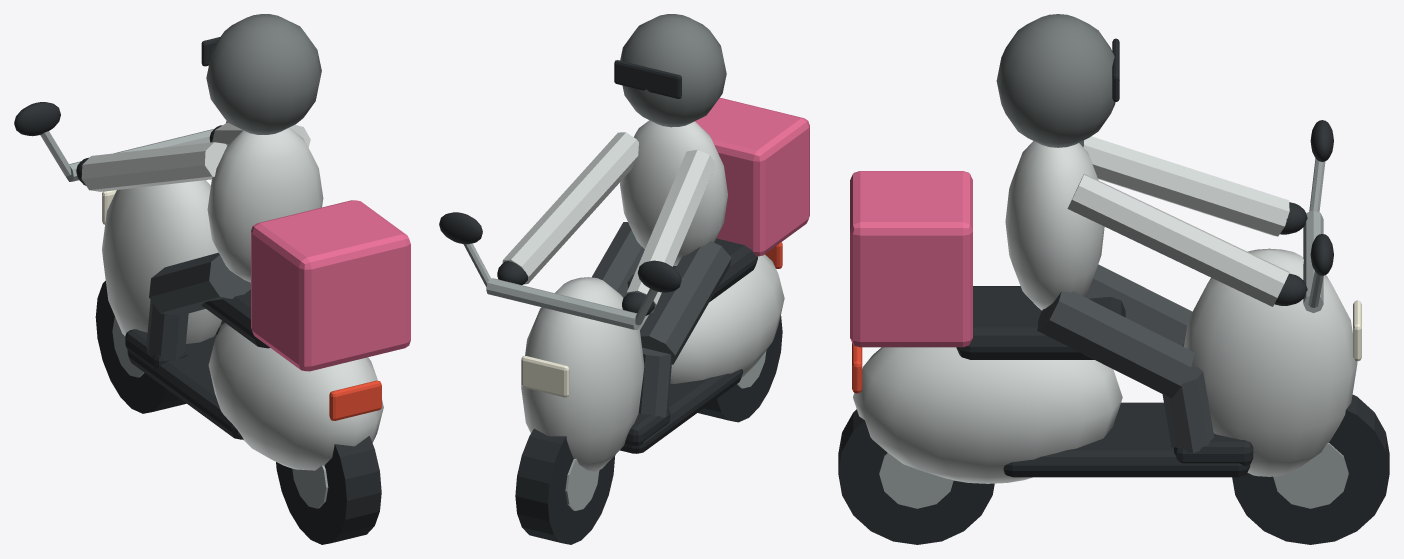
The model's file is bike.glb.
The picture shows the model from 3 angles, left to right: view 1: azimuth 30°, elevation 25°; view 2: azimuth 150°, elevation 25°; view 3: azimuth 270°, elevation 25°; orthographic projection. The views are drawn at different scales.
Parts seen in each view (by area): view 1: delivery_box, rear_fairing, front_fairing, helmet, rider_torso, wheel, arm, thigh, footboard, wheel.001, leg, taillight (+8 smaller); view 2: front_fairing, delivery_box, rear_fairing, helmet, rider_torso, wheel.001, arm.001, thigh, arm, handlebar, footboard, wheel (+10 smaller); view 3: rear_fairing, front_fairing, delivery_box, helmet, rider_torso, wheel.001, arm.001, wheel, footboard, arm, thigh.001, seat (+9 smaller).
Part boxes in pixels (box(x1,y1,x2,y2)): delivery_box: box(251, 200, 410, 371); rear_fairing: box(208, 323, 383, 470); front_fairing: box(102, 180, 221, 343); helmet: box(206, 14, 321, 134); rider_torso: box(207, 128, 323, 282); wheel: box(276, 436, 381, 544); arm: box(81, 142, 226, 191); thigh: box(149, 252, 250, 315); footboard: box(127, 334, 243, 439); wheel.001: box(95, 281, 186, 413); leg: box(146, 300, 188, 360); taillight: box(329, 380, 381, 420); front_fairing: box(521, 277, 644, 471); delivery_box: box(695, 97, 809, 256); rear_fairing: box(639, 254, 784, 383); helmet: box(620, 14, 726, 127); rider_torso: box(620, 120, 727, 265); wheel.001: box(515, 428, 615, 544); arm.001: box(502, 132, 638, 284); thigh: box(640, 241, 731, 364); arm: box(625, 149, 715, 312); handlebar: box(486, 278, 640, 329); footboard: box(620, 369, 742, 453); wheel: box(698, 315, 782, 422); rear_fairing: box(853, 347, 1122, 483); front_fairing: box(1184, 248, 1357, 476); delivery_box: box(850, 171, 972, 347); helmet: box(996, 14, 1115, 147); rider_torso: box(1005, 141, 1104, 310); wheel.001: box(1232, 394, 1389, 544); arm.001: box(1067, 173, 1289, 306); wheel: box(838, 409, 994, 544); footboard: box(1003, 402, 1250, 477); arm: box(1079, 136, 1289, 236); thigh.001: box(1037, 291, 1194, 398); seat: box(956, 286, 1125, 359).
Size of the model in its own units: 1.12 by 1.94 by 1.88.
